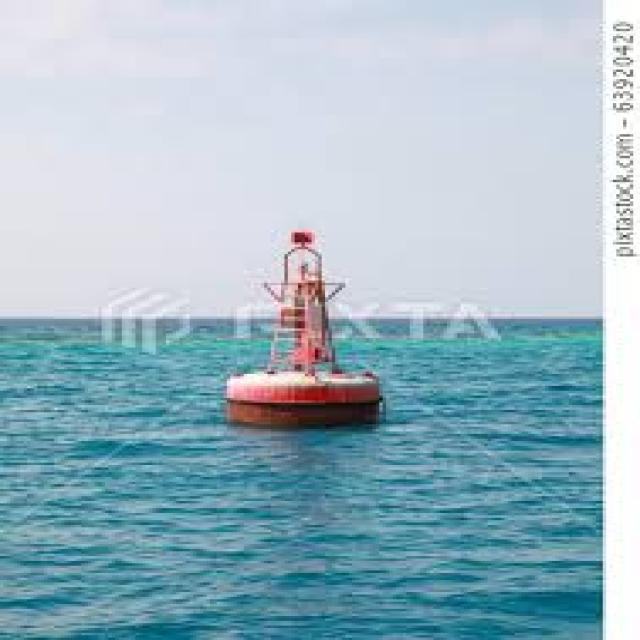marque: (219, 200, 403, 438)
